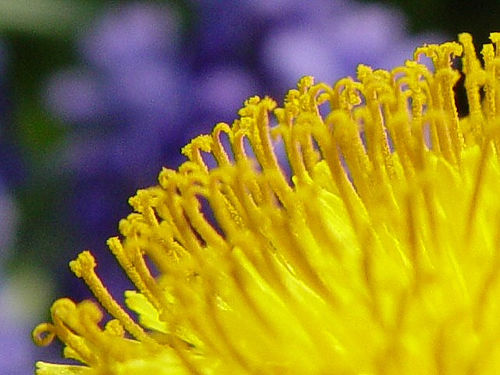dandelion: (20, 24, 481, 375)
